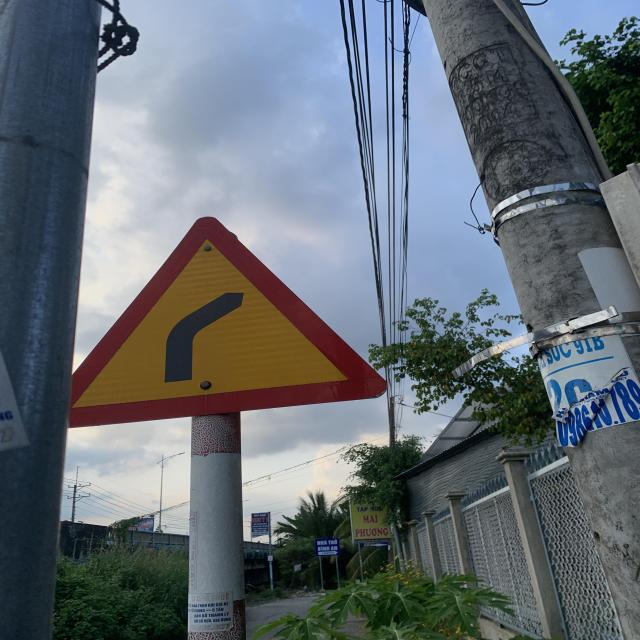Duong_Nguoi_Di_Bo_Cat_Ngang: (68, 218, 381, 422)
